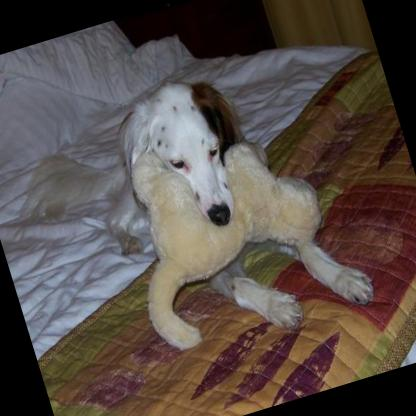English_setter: (0, 32, 380, 398)
